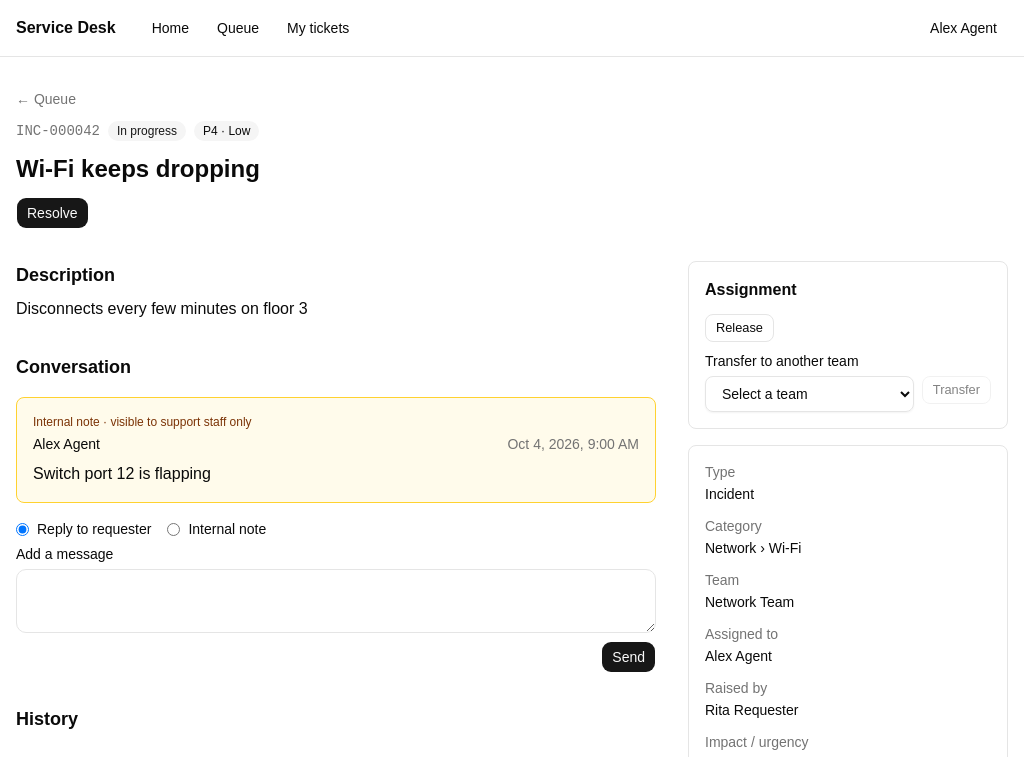
Test: ticket page for support staff › resolves with a required resolution code and notes
The image size is (1024, 757).
Click the button "Resolve".
click(52, 213)  # box x1=16 y1=197 x2=89 y2=229
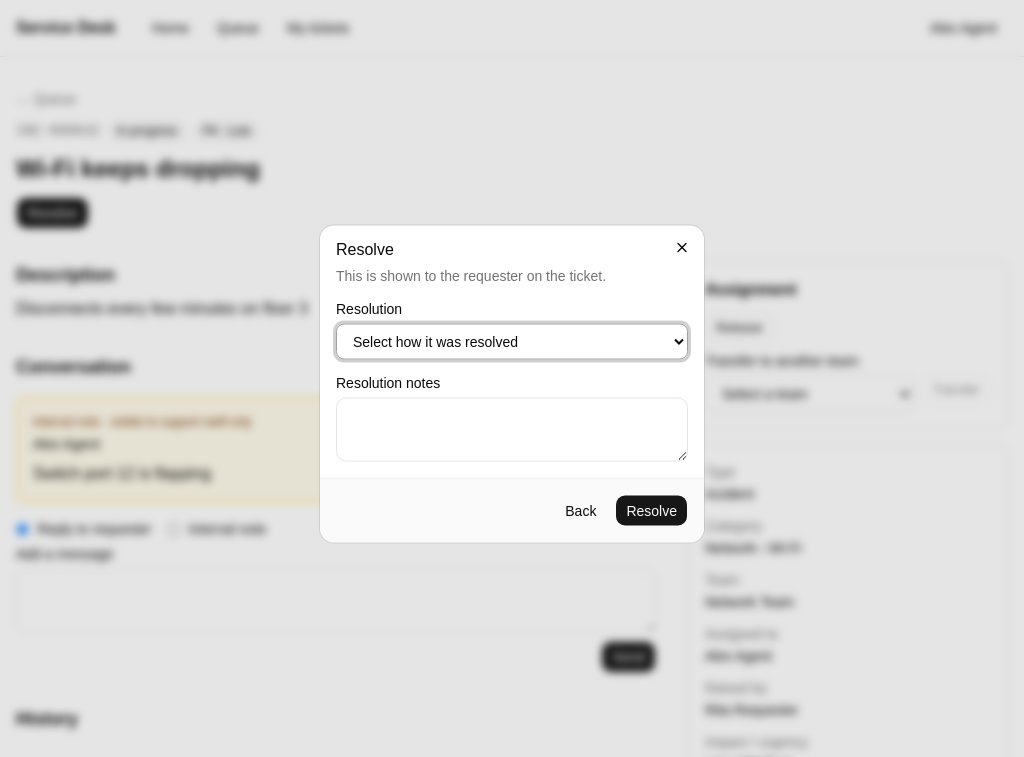
Click the button "Resolve".
click(652, 510)  # box x1=615 y1=494 x2=688 y2=526
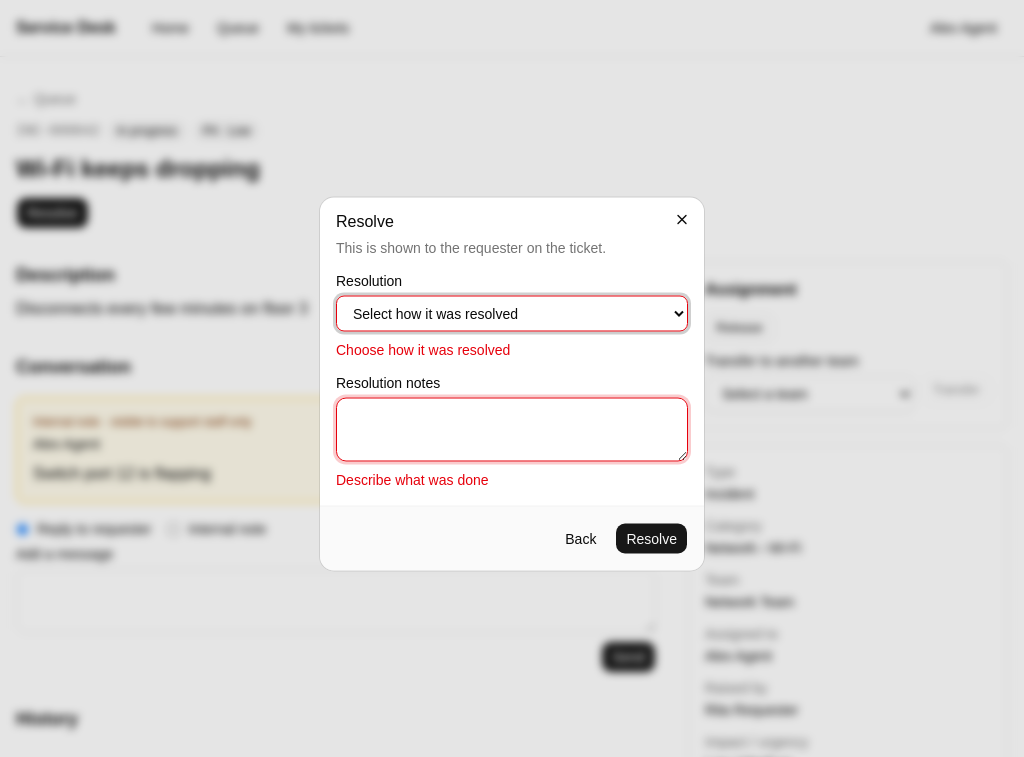
Expected: the text "Choose how it was resolved" is shown, x1=336 y1=342 x2=510 y2=358
Expected: the text "Describe what was done" is shown, x1=336 y1=472 x2=488 y2=488
Select "Workaround provided" in the dropdown labelled "Resolution" at (512, 314), box x1=336 y1=296 x2=688 y2=332
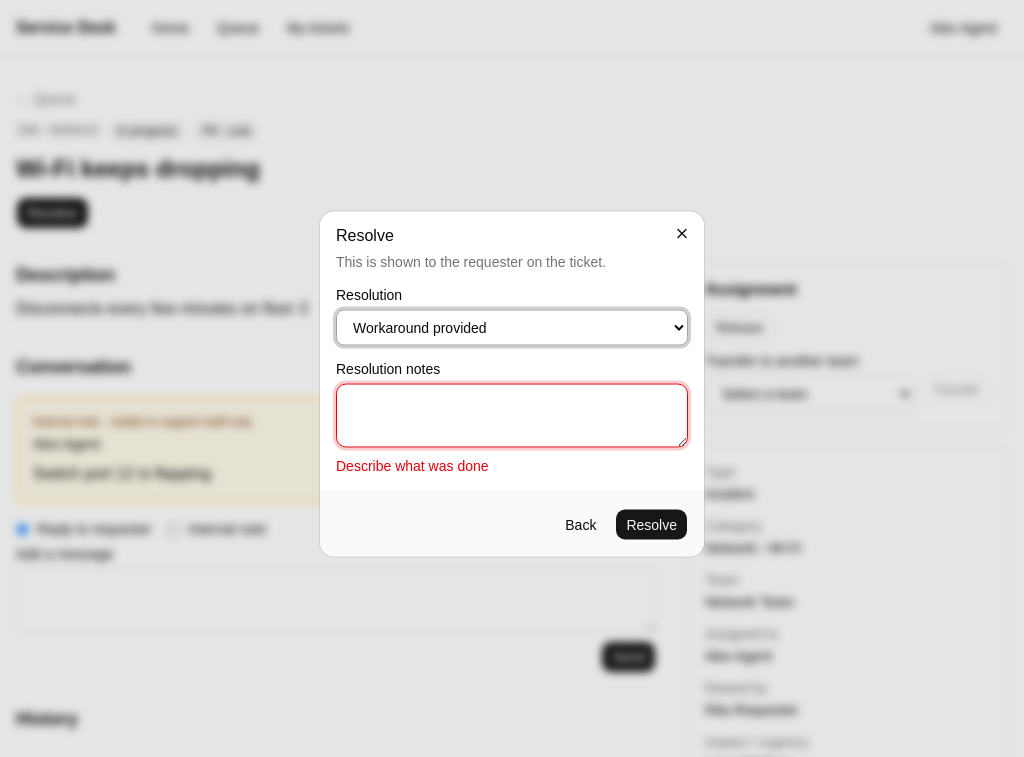
Type "Use the wired dock until the AP is replaced" into the text box labelled "Resolution notes".
click(512, 416); type("Use the wired dock until the AP is replaced")  # box x1=336 y1=384 x2=688 y2=448
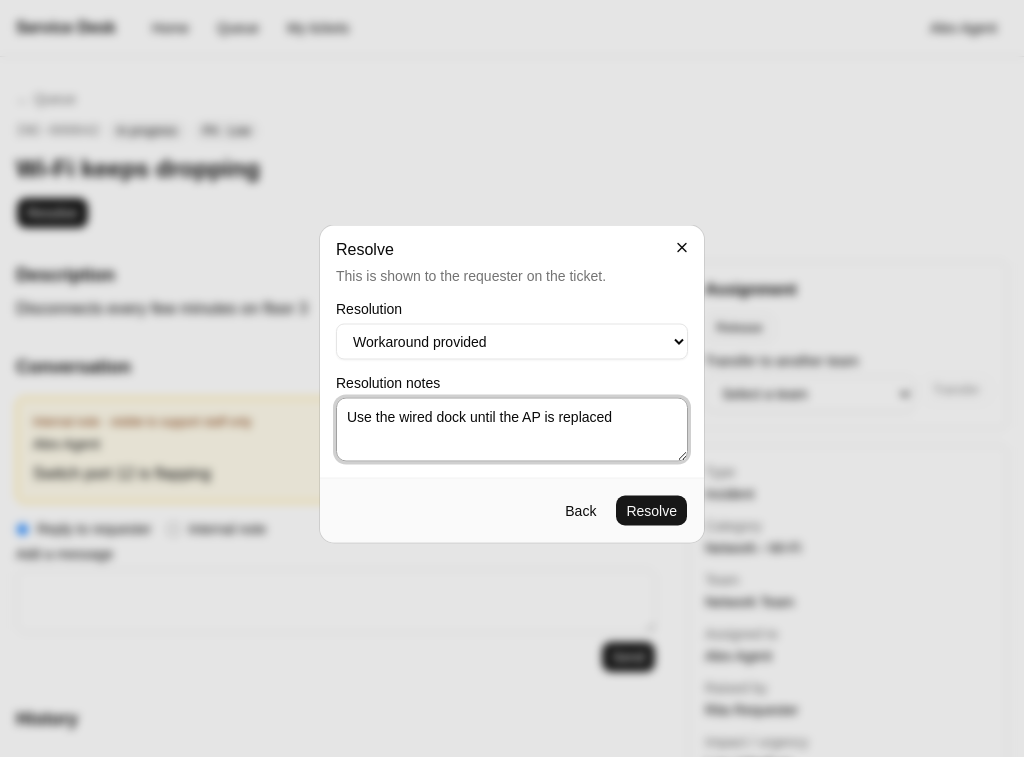
Click the button "Resolve".
click(652, 510)  # box x1=615 y1=494 x2=688 y2=526
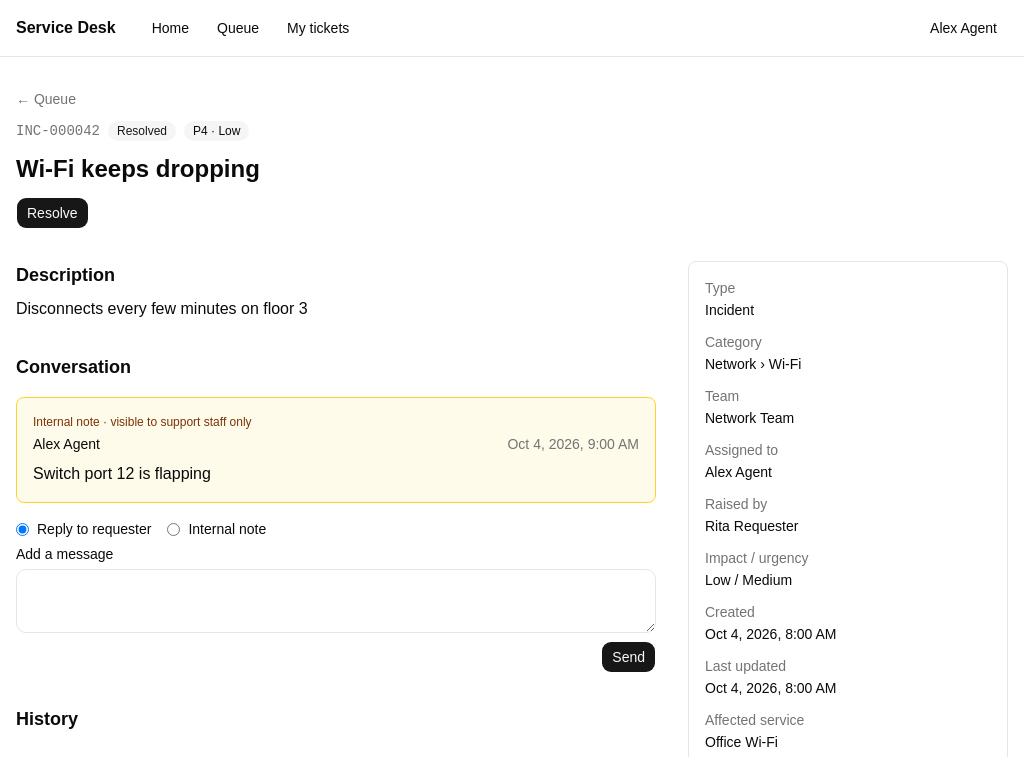
Expected: the text "Resolved" is shown, x1=108 y1=121 x2=176 y2=141
